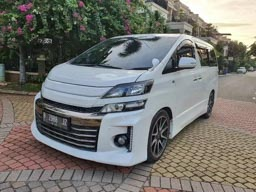plat: (42, 112, 69, 132)
